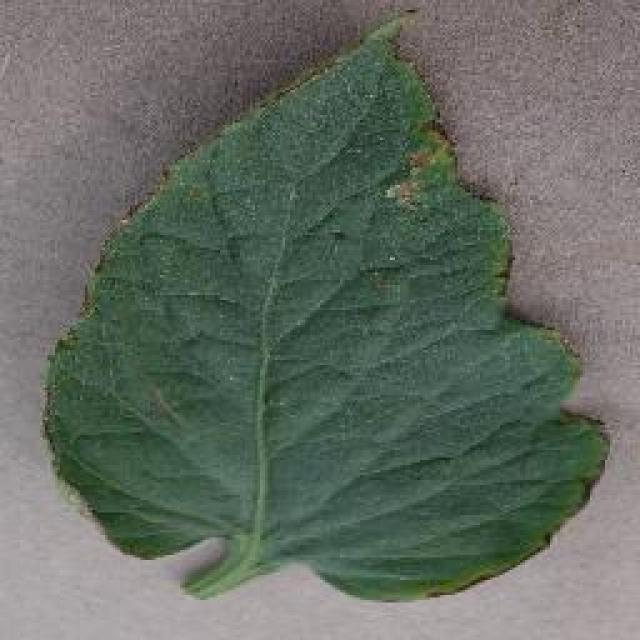Tomato bacterial spot leaf: (36, 2, 616, 606)
